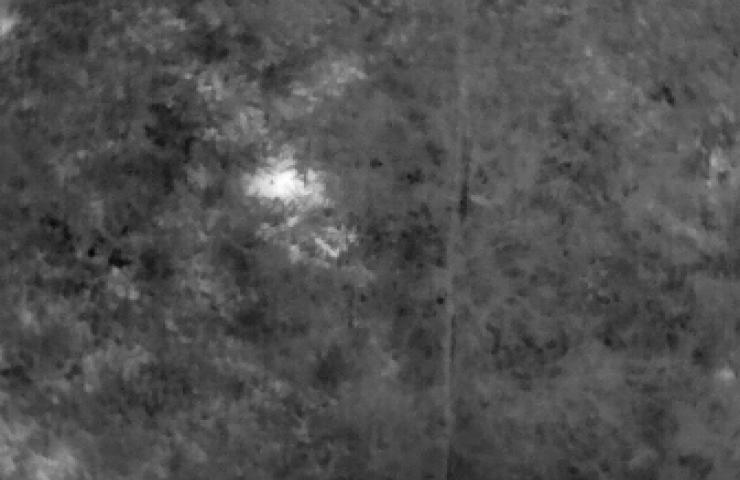landmines: (244, 153, 308, 206)
